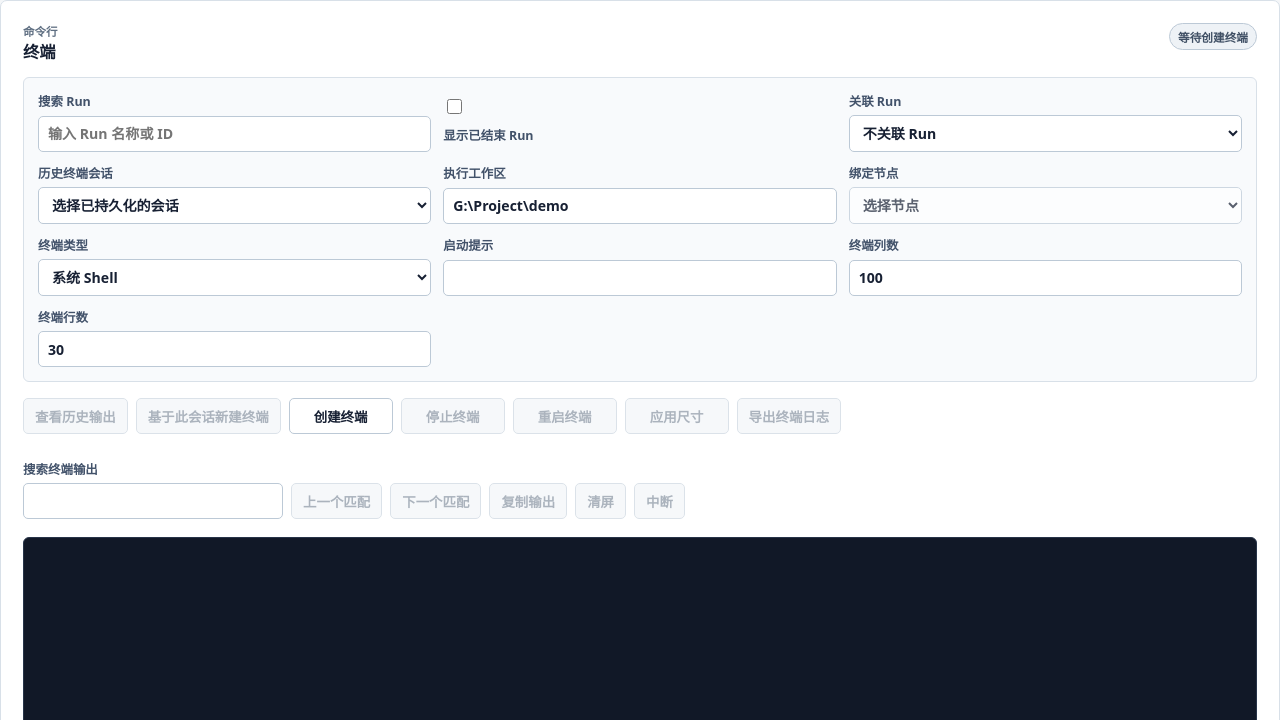
TerminalPage › 已结束 Run 仅允许查看历史，不能创建或绑定终端
Click the checkbox labelled "显示已结束 Run". click: (455, 106)
box: [447,95,462,118]
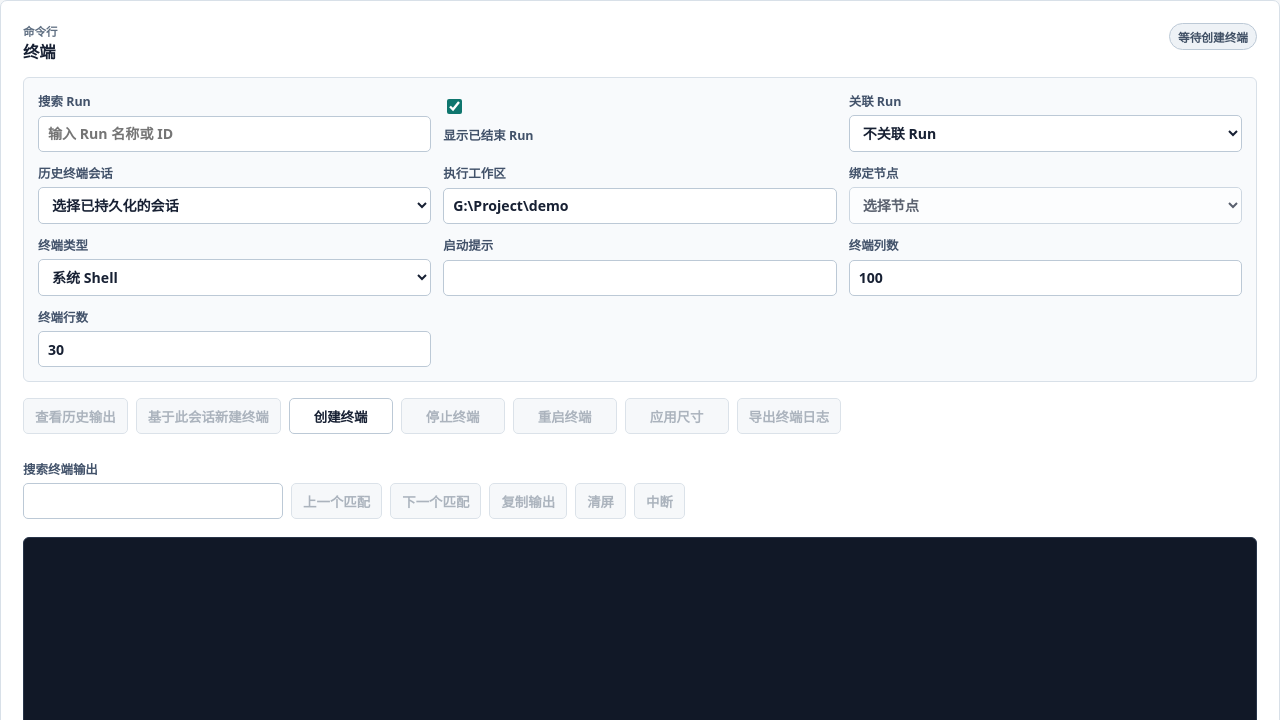
Select "Done Run · DONE · Legacy 1 · 2026-08-01T00:00:00Z" in the dropdown labelled "关联 Run". click: (1045, 134)
box: [849,115,1242,152]
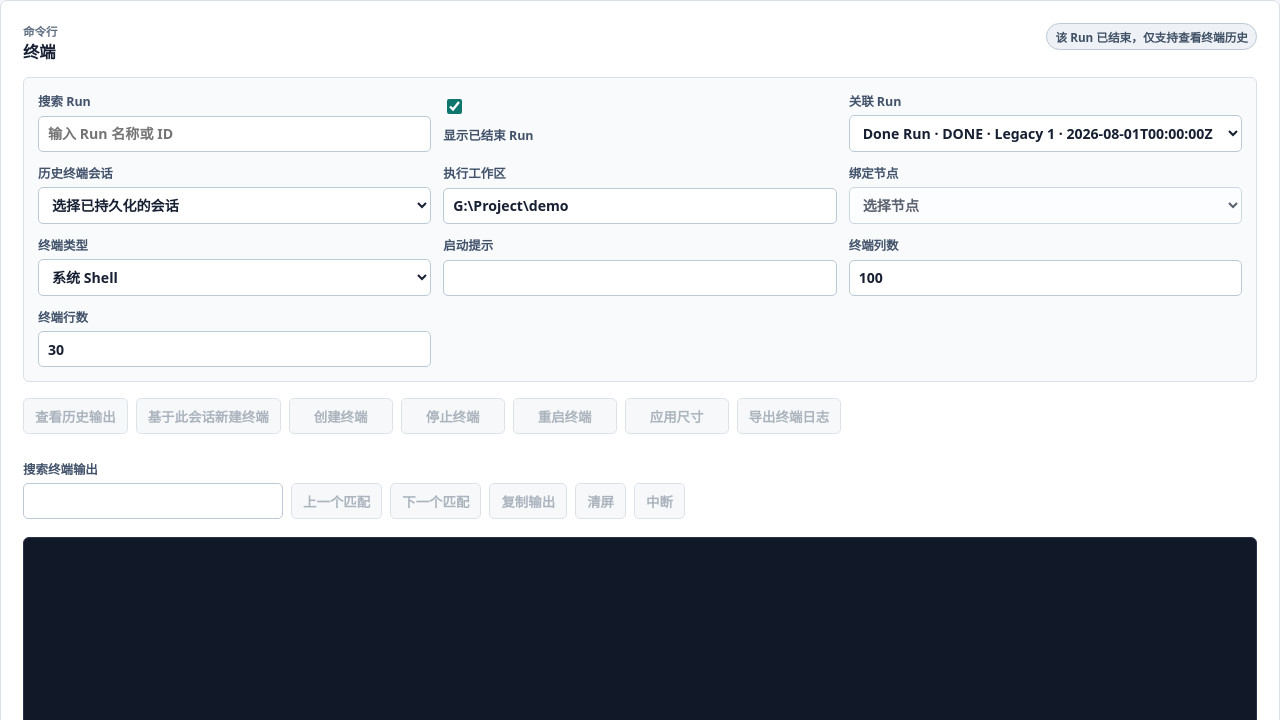
Check: the text "该 Run 已结束，仅支持查看终端历史" is shown, box [1046,23,1257,50]
Check: the button "创建终端" is disabled, box [289,398,393,434]
